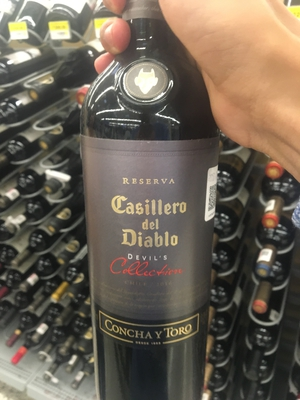casillero del diablo devils collection rojo: (73, 25, 224, 400)
